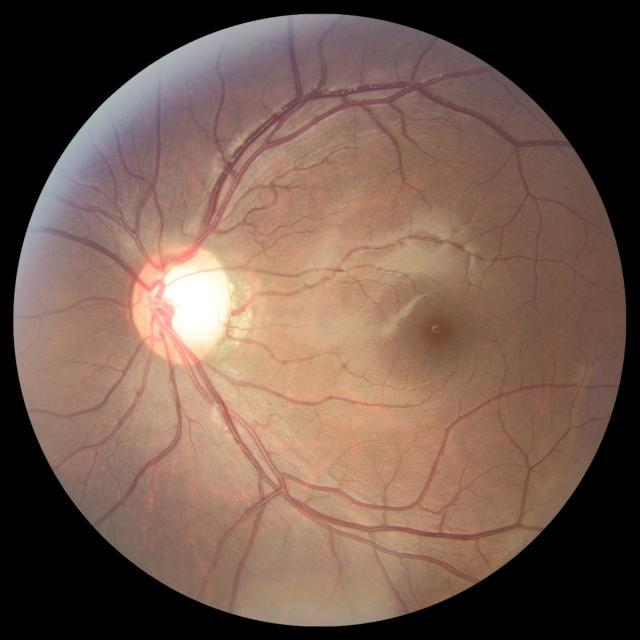OC: (152, 262, 226, 343)
OD: (130, 242, 234, 360)
